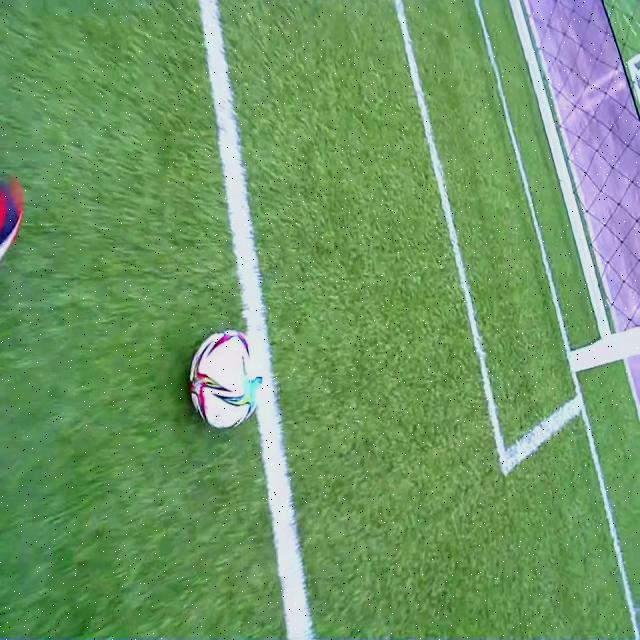ball: (190, 326, 261, 428)
